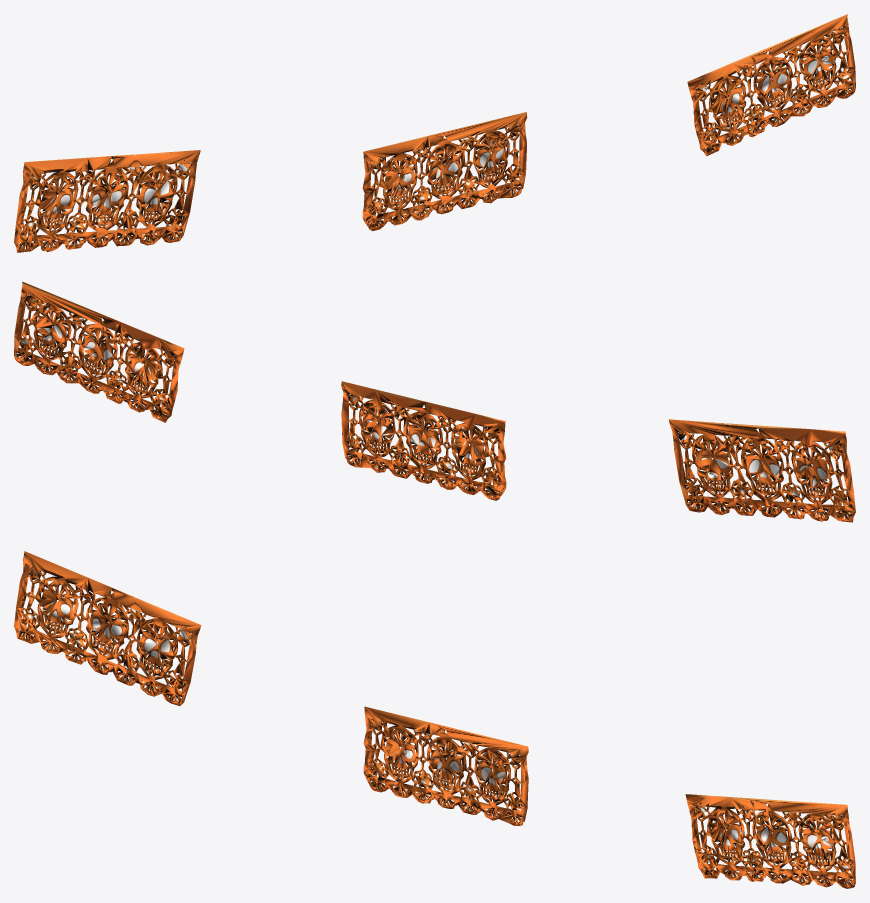
File: papel_naranja.obj
The picture shows the model from 3 angles, top to bottom: view 1: azimuth 30°, elevation 25°; view 2: azimuth 150°, elevation 25°; view 3: azimuth 330°, elevation 25°; orthographic projection.
Visible parts, largest first — view 1: papelNaranja; view 2: papelNaranja; view 3: papelNaranja.
Boxes of the visible parts, x1,y1,x2,y2 form: papelNaranja: (14, 14, 855, 252); papelNaranja: (14, 281, 855, 522); papelNaranja: (14, 551, 855, 888).
Bounding box in the file's own units: 3.99 × 0.7206 × 0.0167.
1 material, 1 textured.
